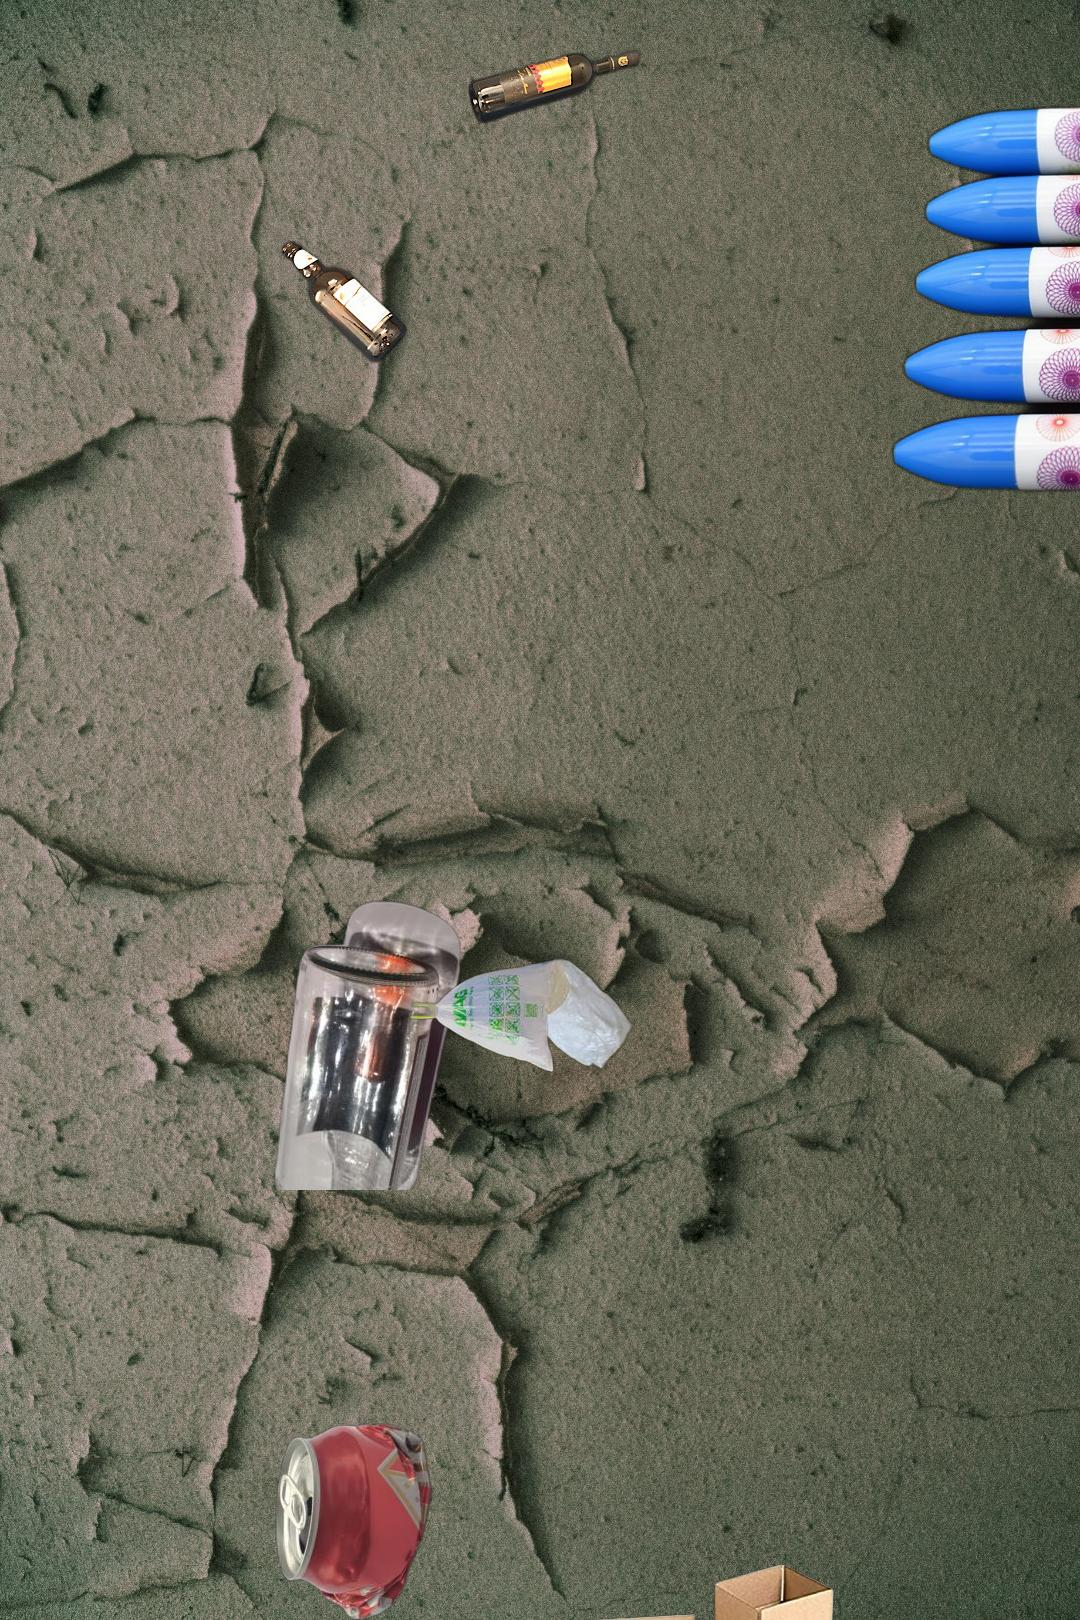glass: (277, 45, 644, 369), (270, 897, 464, 1190)
metal-cans: (271, 1420, 436, 1620)
penholder: (885, 82, 1080, 498)
plastic-bag: (407, 955, 636, 1075)
trashbox-cardboard: (515, 1563, 835, 1620)
